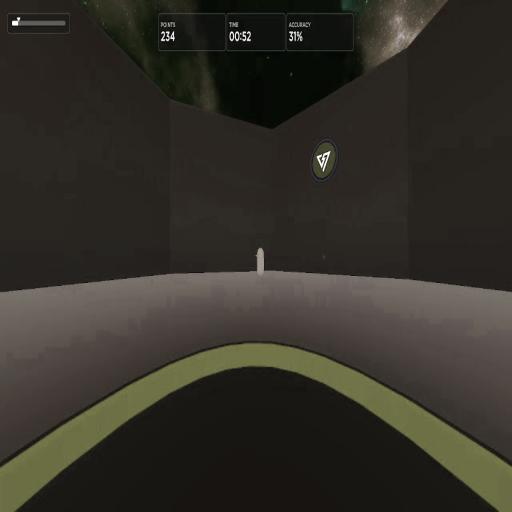Crosshair: (256, 254, 258, 258)
Target: (257, 248, 264, 277)
